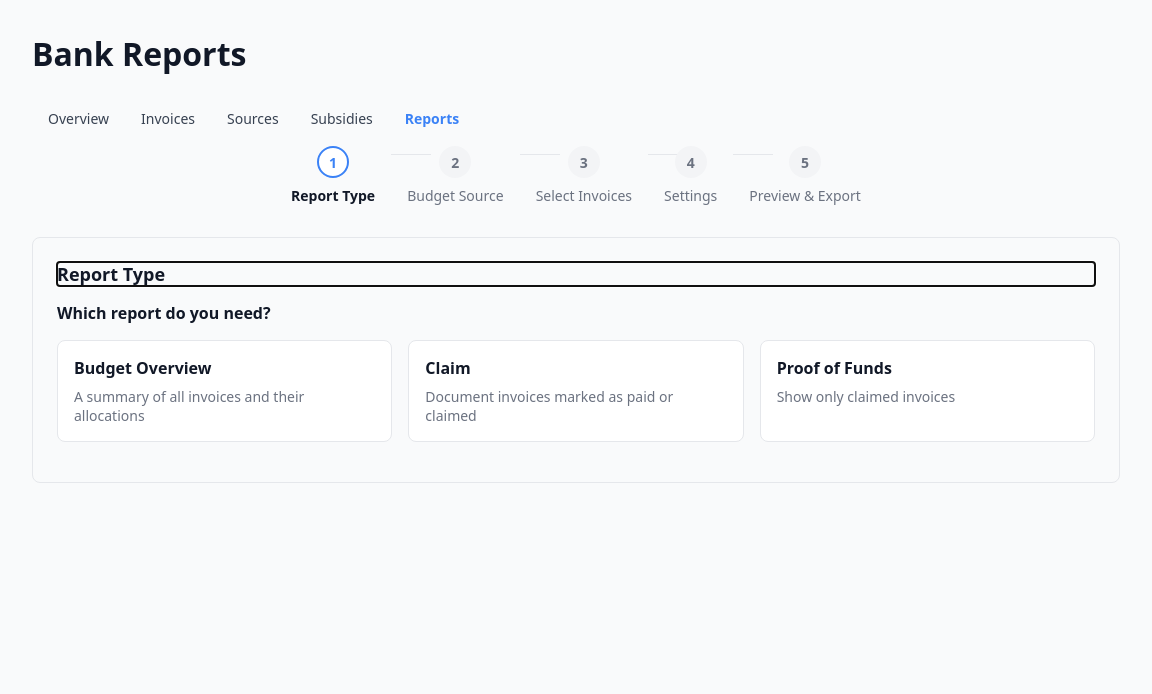
Test: ReportWizardPage — AI generation (Story #1901, revised by #1931) › availability (single llmEnabled gate, #1931) › offers "Enhance with AI" on step 5 when llmEnabled is true, with no step-4 interaction required
The width and height of the screenshot is (1152, 694).
Expected: the element named "Which report do you need?" is shown, [57,340,1095,442]
Click the radio button labelled "Claim Document invoices marked as paid or claimed" at (576, 391), box [408,340,744,442]
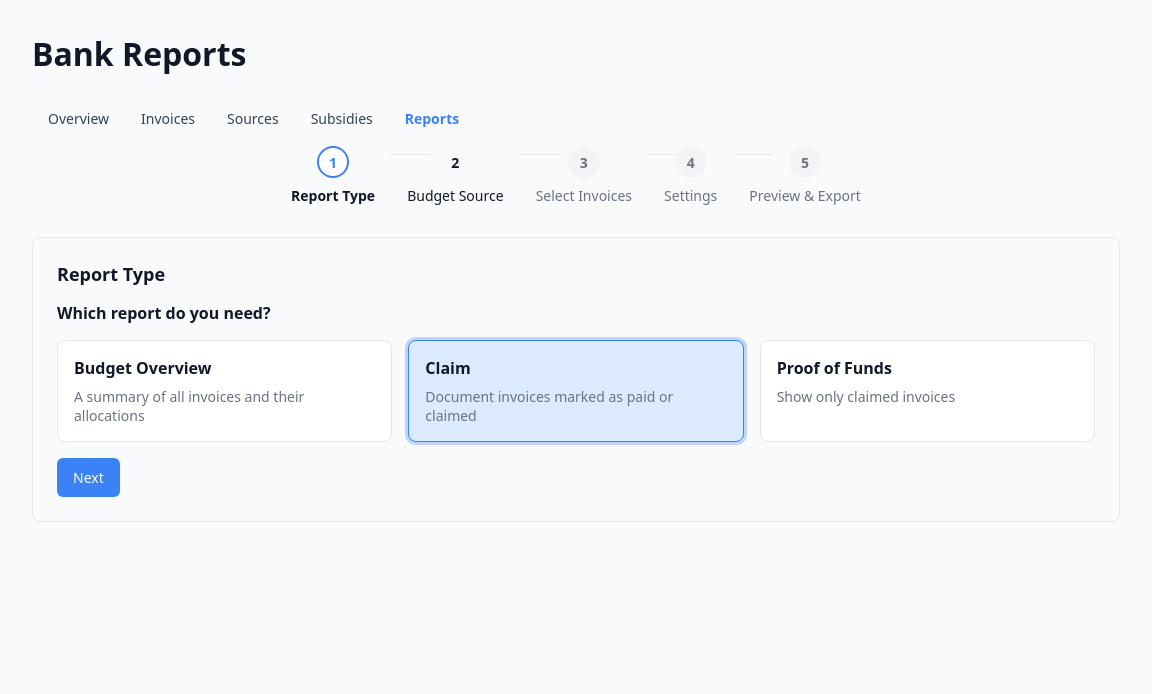
Click the button "Next" at (88, 478), box [57,458,120,497]
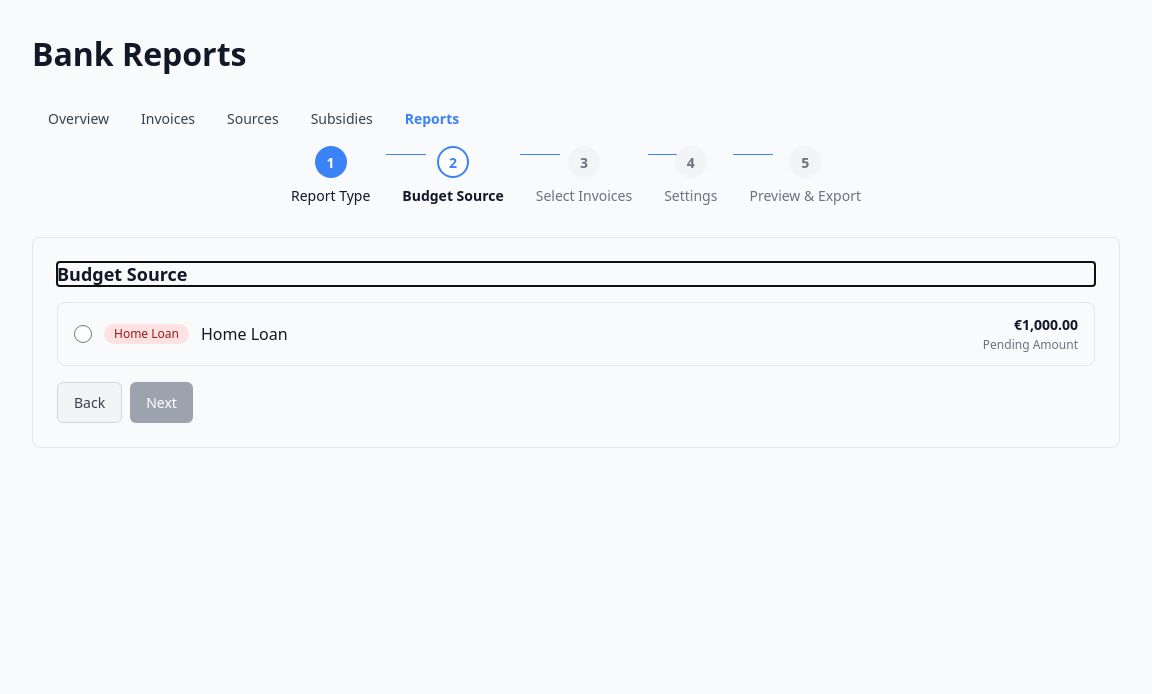
Click the radio button at (83, 334), box [74,325,92,343]
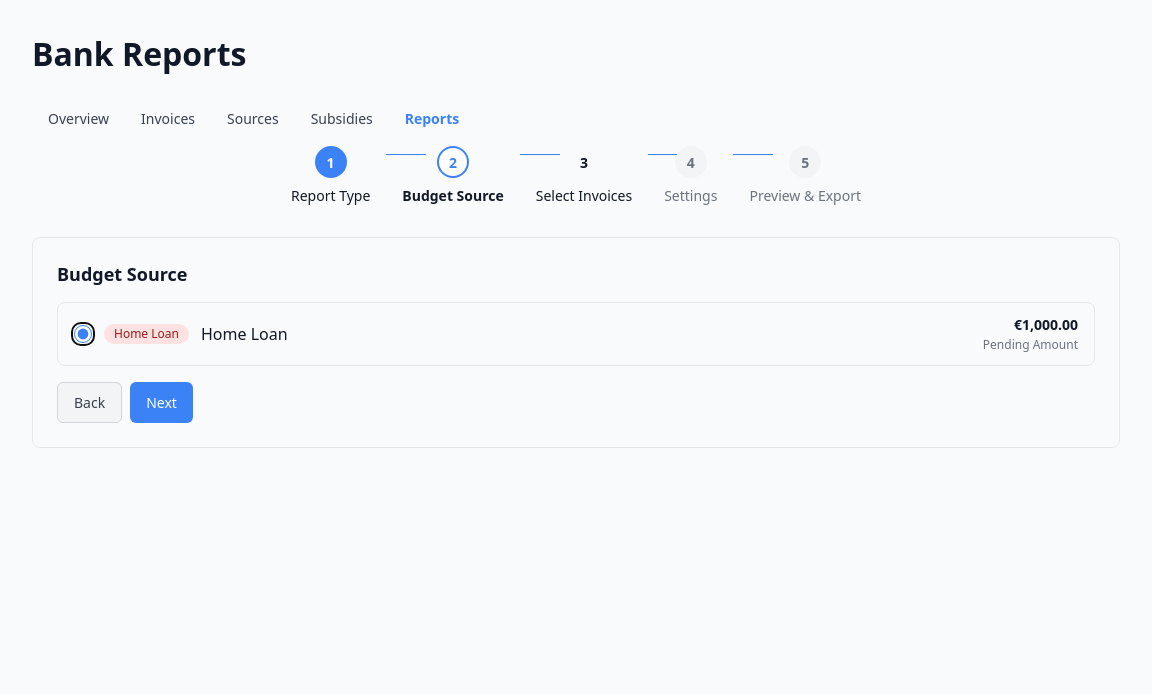
Now the button "Next" is enabled
Click the button "Next" at (162, 402), box [130,382,193,423]
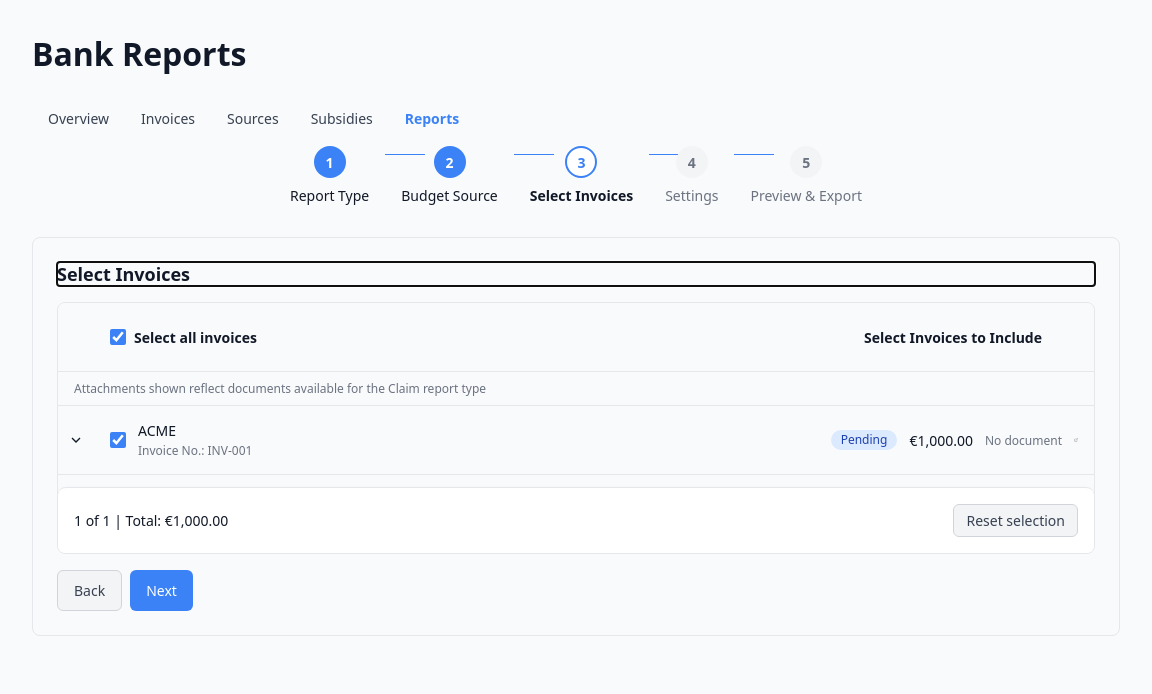
Now the text "ACME" is shown, box [138,421,176,440]
Click the button "Next" at (162, 590), box [130,570,193,611]
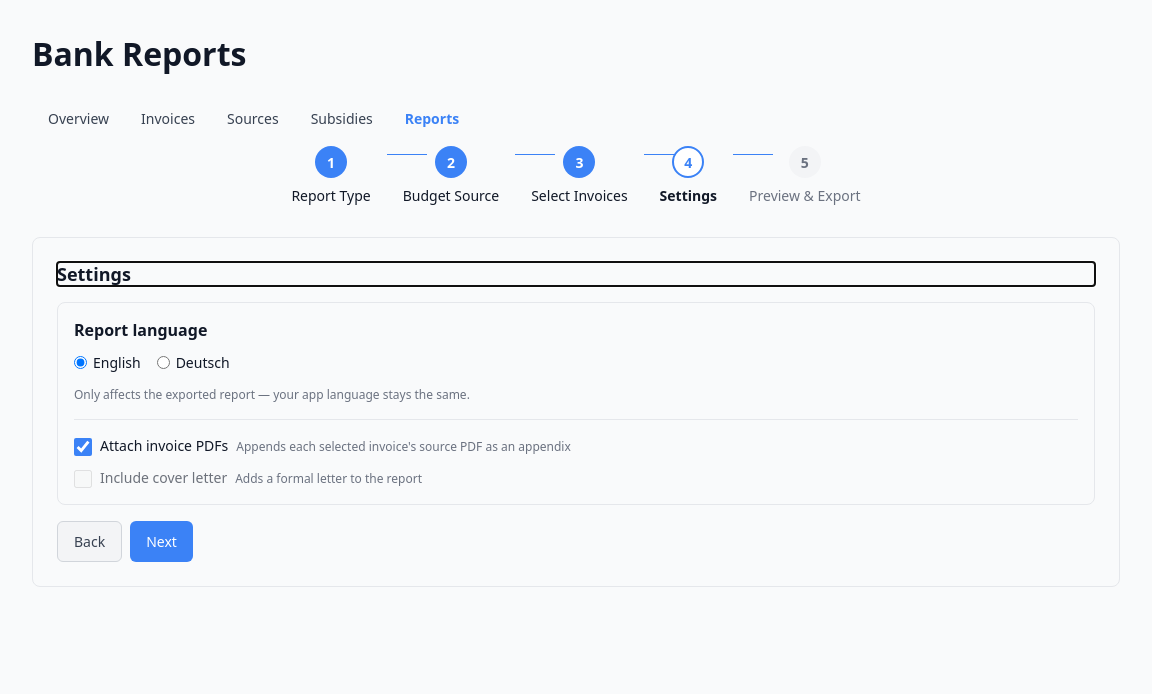
Click the button "Next" at (162, 542), box [130,521,193,562]
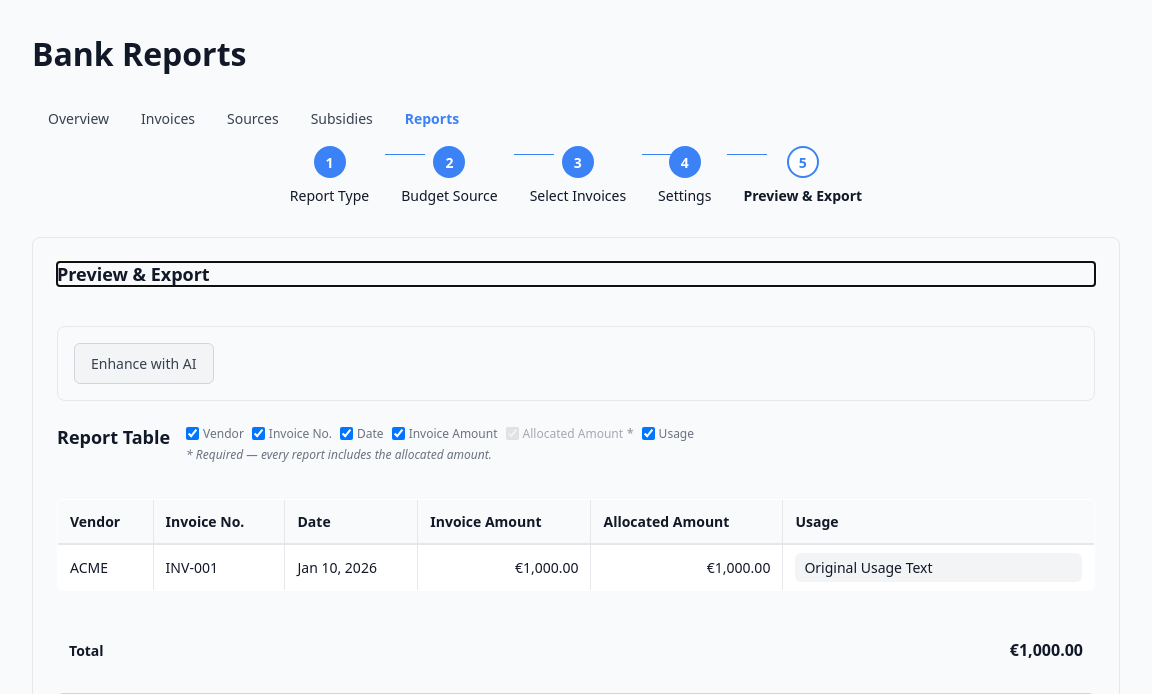
Now the button "Enhance with AI" is shown, box [74,343,214,384]
